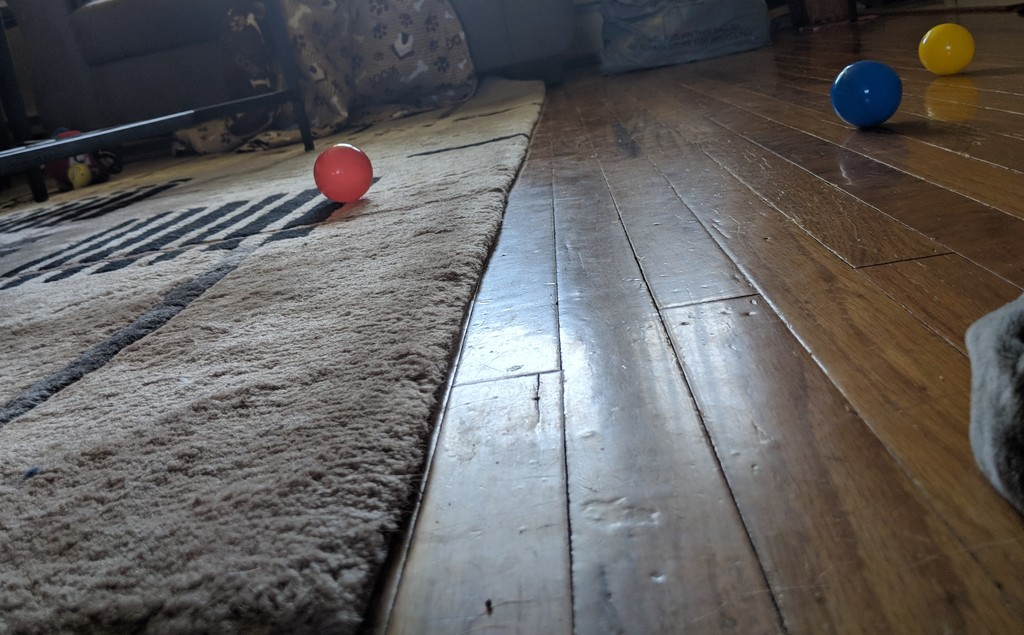ball: (914, 18, 976, 78)
